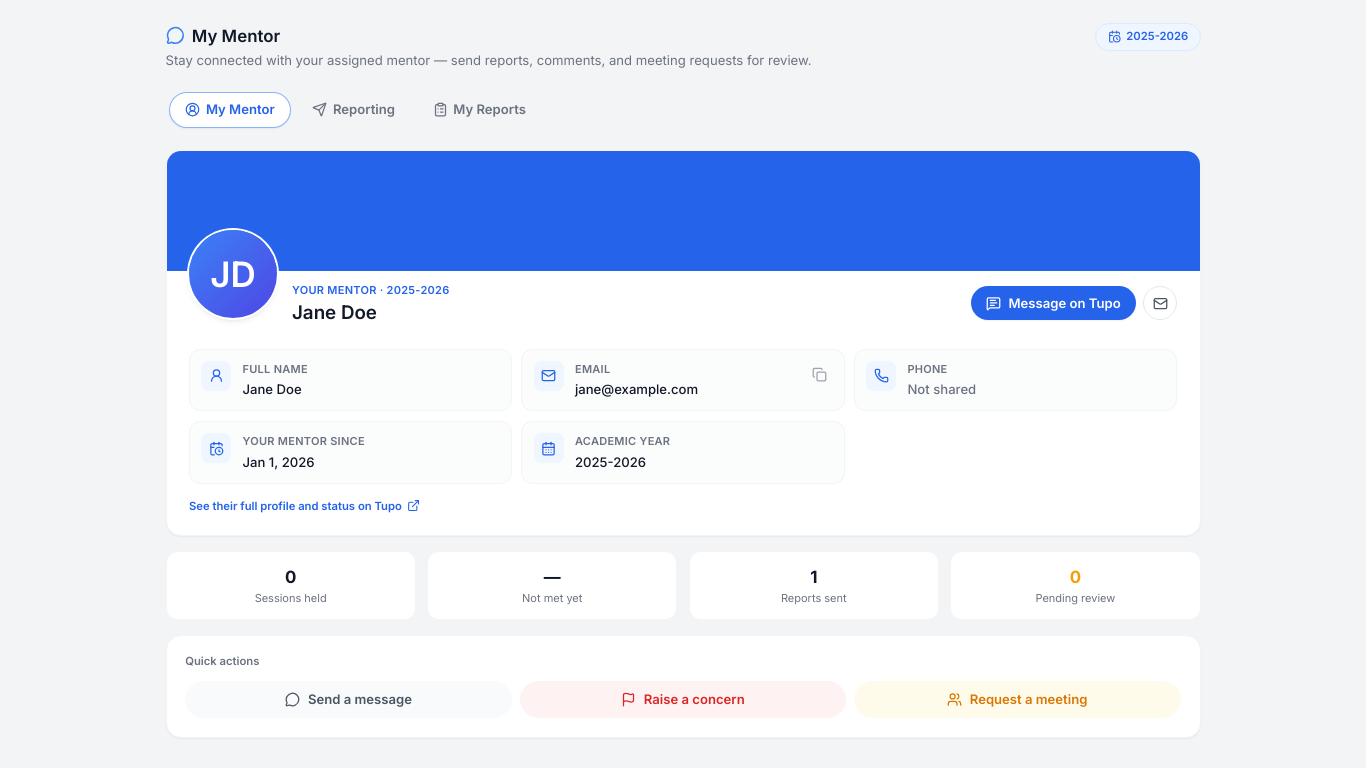
Test: MyMentor — student check-in submission › shows the approval status badge for a previously submitted report
Click the button "My Reports" at {"x": 479, "y": 110}, box top-left (417, 92), bottom-right (542, 128)
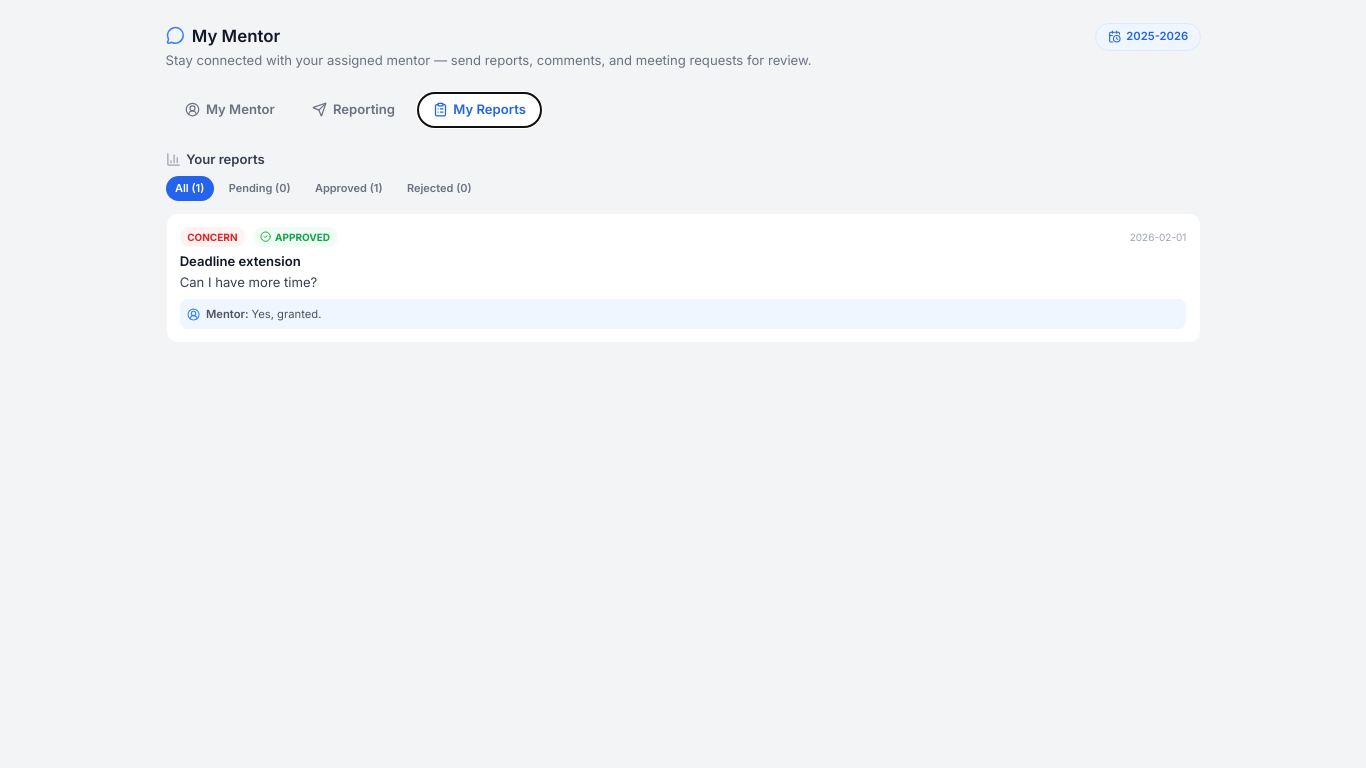
Expected: the text "Deadline extension" is shown, top-left (180, 253), bottom-right (301, 269)
Expected: the text "Approved" is shown, top-left (252, 227), bottom-right (338, 247)
Expected: the text "Mentor: Yes, granted." is shown, top-left (206, 307), bottom-right (322, 322)
